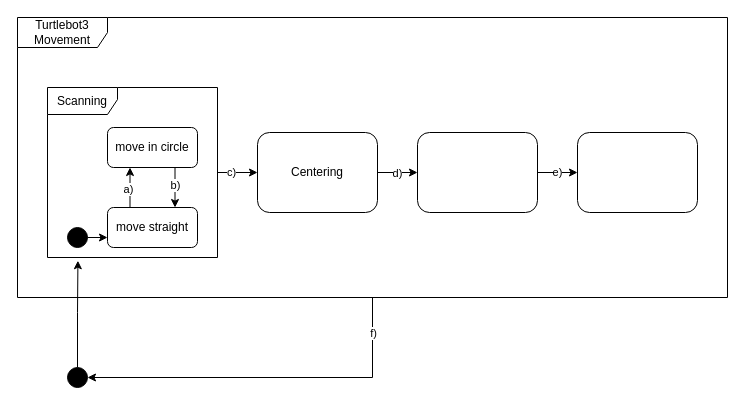
Image size: 745x405. Some labels were removed from this diagram. The centre of each missing label's shape, as x and y in pixels:
Approaching: the point at 477,172
Collecting: the point at 637,172
